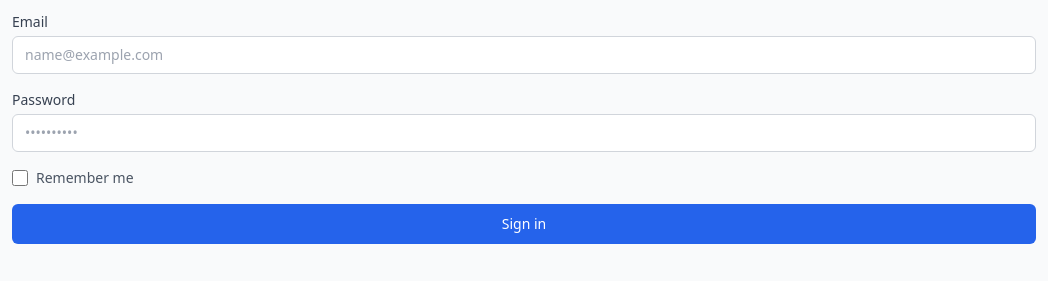
Test: LoginForm › shows invalid email error for bad email format
Type "not-an-email" into the field labelled "Email" at (524, 55), box [12,36,1036,74]
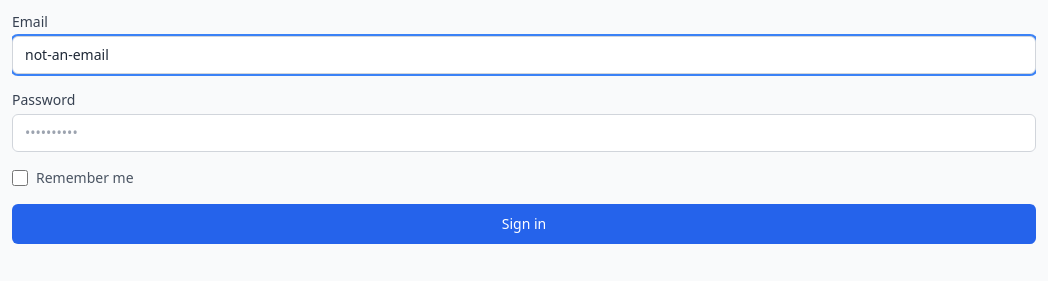
Type "password123" into the password field labelled "Password" at (524, 133), box [12,114,1036,152]
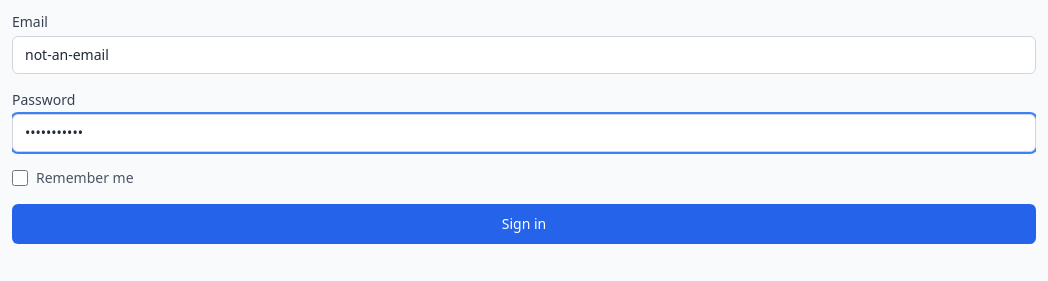
Click the button "Sign in" at (524, 224), box [12,204,1036,244]
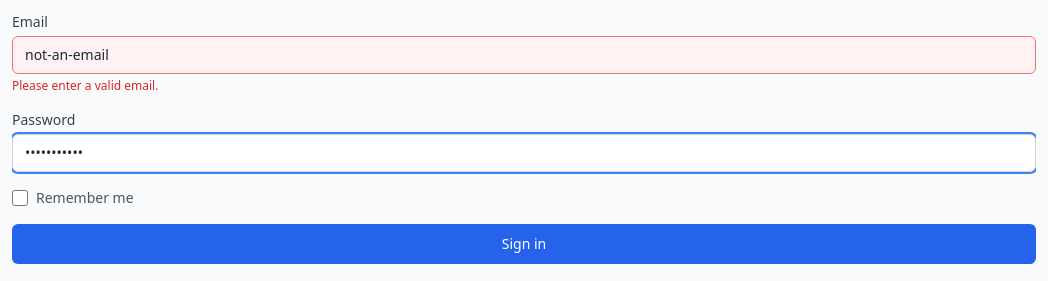
Result: the text "Please enter a valid email." is shown at [12,77,158,94]
